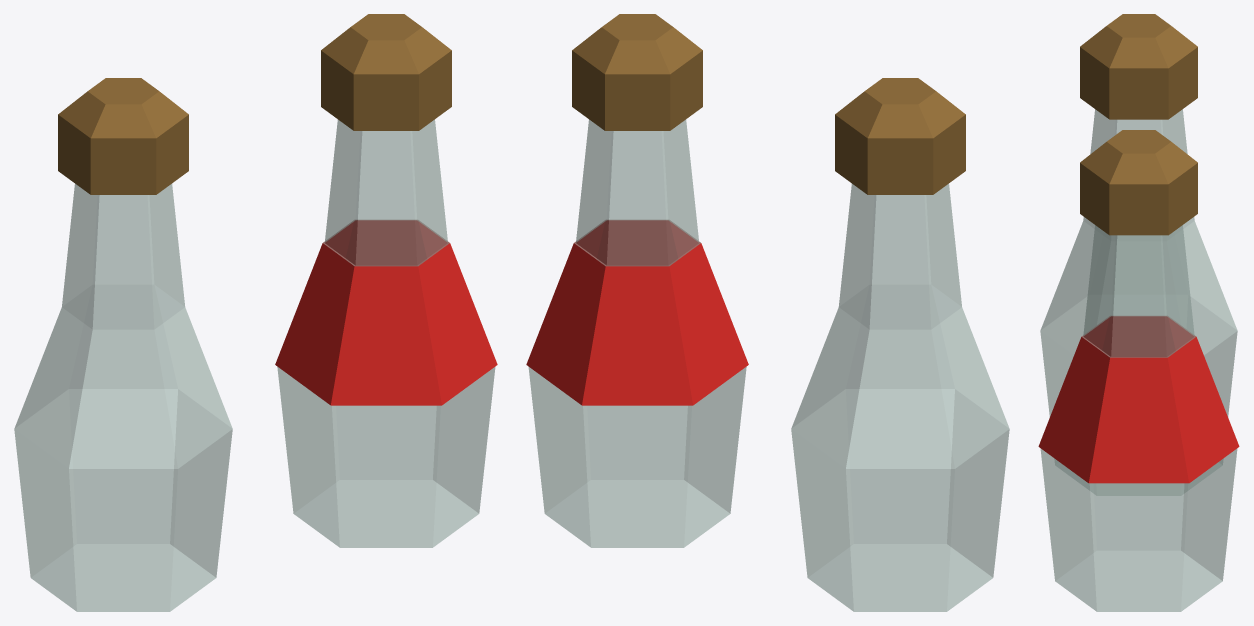
Rendered from Condiments.fbx.
3 renders of one model, left to right at view 1: azimuth 30°, elevation 25°; view 2: azimuth 150°, elevation 25°; view 3: azimuth 270°, elevation 25°, orthographic. The views are drawn at different scales.
Visible parts, largest first — view 1: Cylinder.018, Cylinder.017; view 2: Cylinder.018, Cylinder.017; view 3: Cylinder.018, Cylinder.017.
Boxes of the visible parts, x1,y1,x2,y2 form: Cylinder.018: (275,14,497,547); Cylinder.017: (14,78,232,611); Cylinder.018: (526,14,748,547); Cylinder.017: (791,78,1009,611); Cylinder.018: (1038,130,1239,611); Cylinder.017: (1040,14,1237,495).
Bounding box in the file's own units: 28.68 × 31.14 × 12.91.
